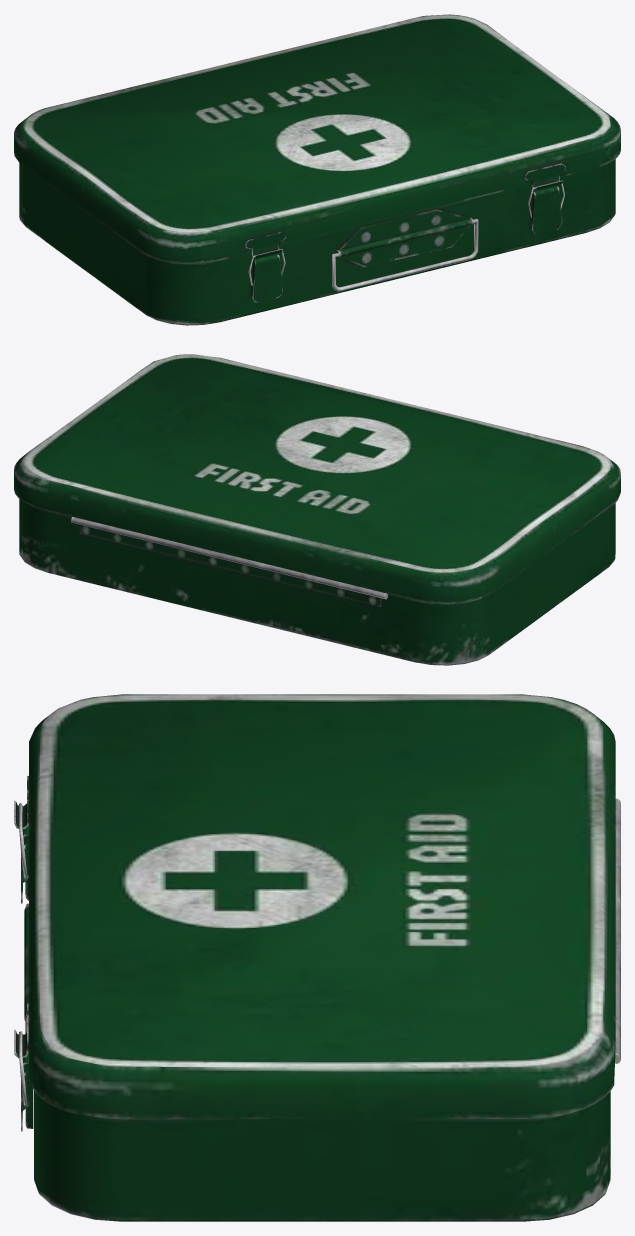
Rendered from medbox.glb.
3 renders of one model, top to bottom at view 1: azimuth 30°, elevation 25°; view 2: azimuth 150°, elevation 25°; view 3: azimuth 270°, elevation 25°, orthographic. The views are drawn at different scales.
Visible parts, largest first — view 1: medical_box_latch; view 2: medical_box_latch; view 3: medical_box_latch.
Part boxes in pixels (x1,y1,x2,y2): medical_box_latch: [14, 14, 620, 325]; medical_box_latch: [14, 354, 620, 665]; medical_box_latch: [14, 694, 620, 1221].
Size of the model in its own units: 0.5255 by 0.0975 by 0.3501.
Materials: 1 (1 with a texture image).
